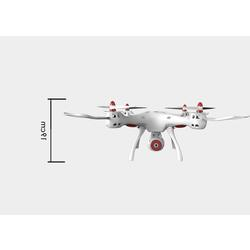drone: (61, 100, 250, 164)
